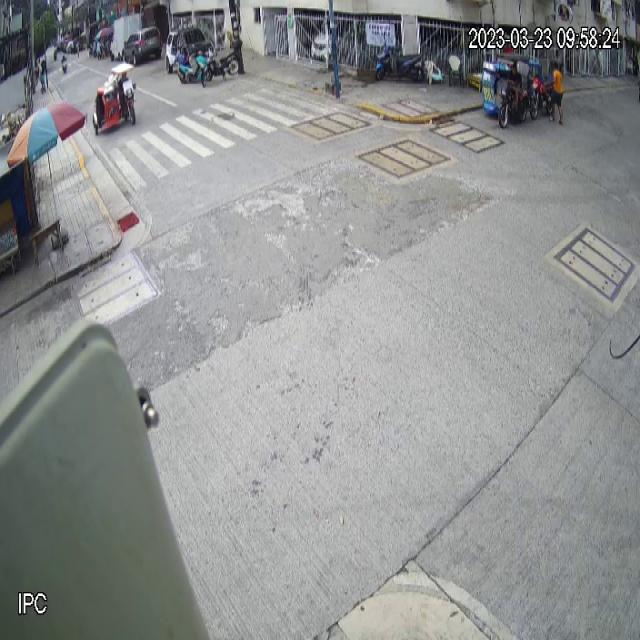Tricycle: (479, 51, 531, 128), (92, 62, 139, 134)
